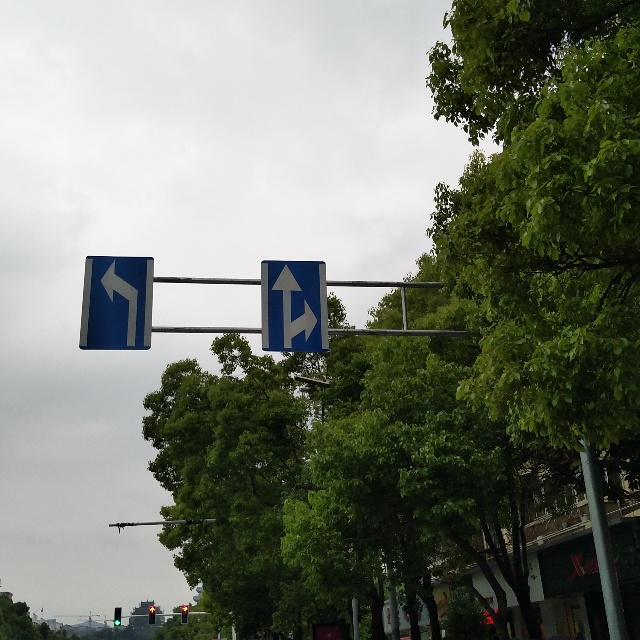left: (91, 257, 148, 348)
